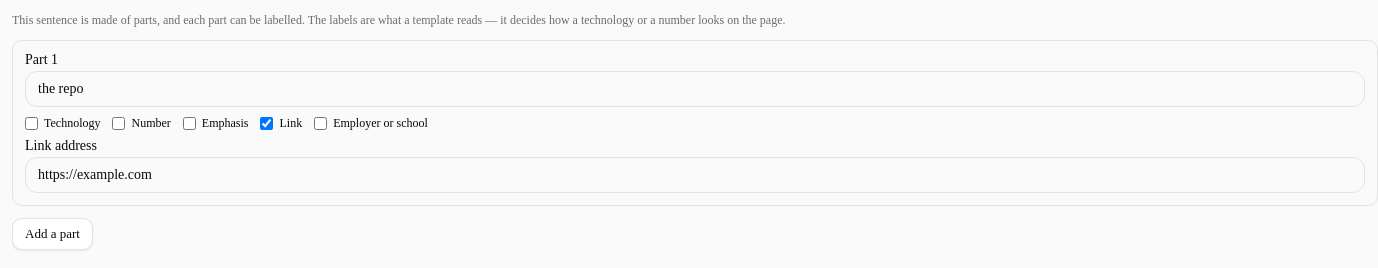
Test: editing a wording as parts › clears the address in the same step as the link mark
Click the checkbox labelled "Link" at point(267, 123), box [260, 116, 274, 130]
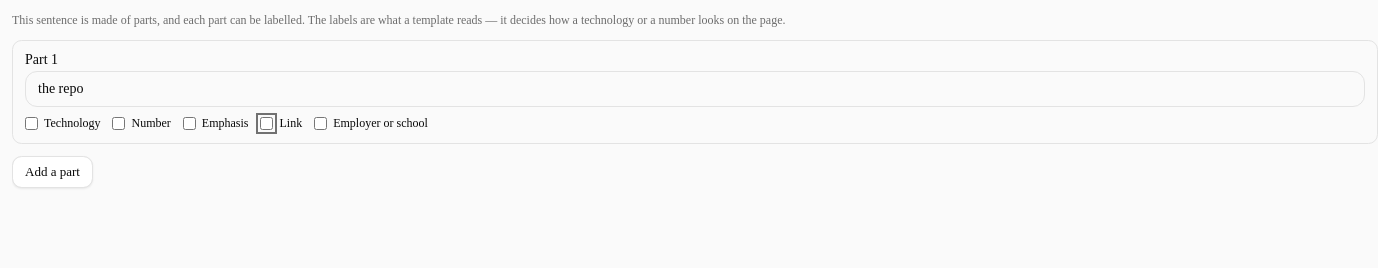
Expected: the label labelled "Link address" is gone
